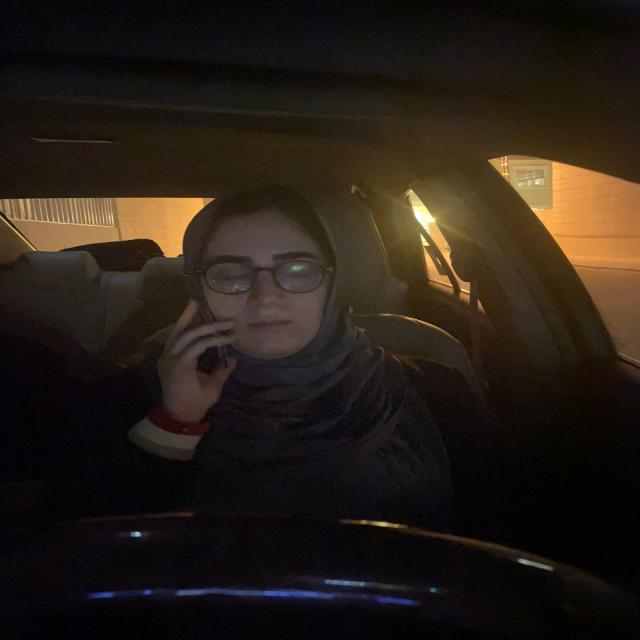mobile: (175, 294, 227, 372)
person: (182, 195, 348, 369)
